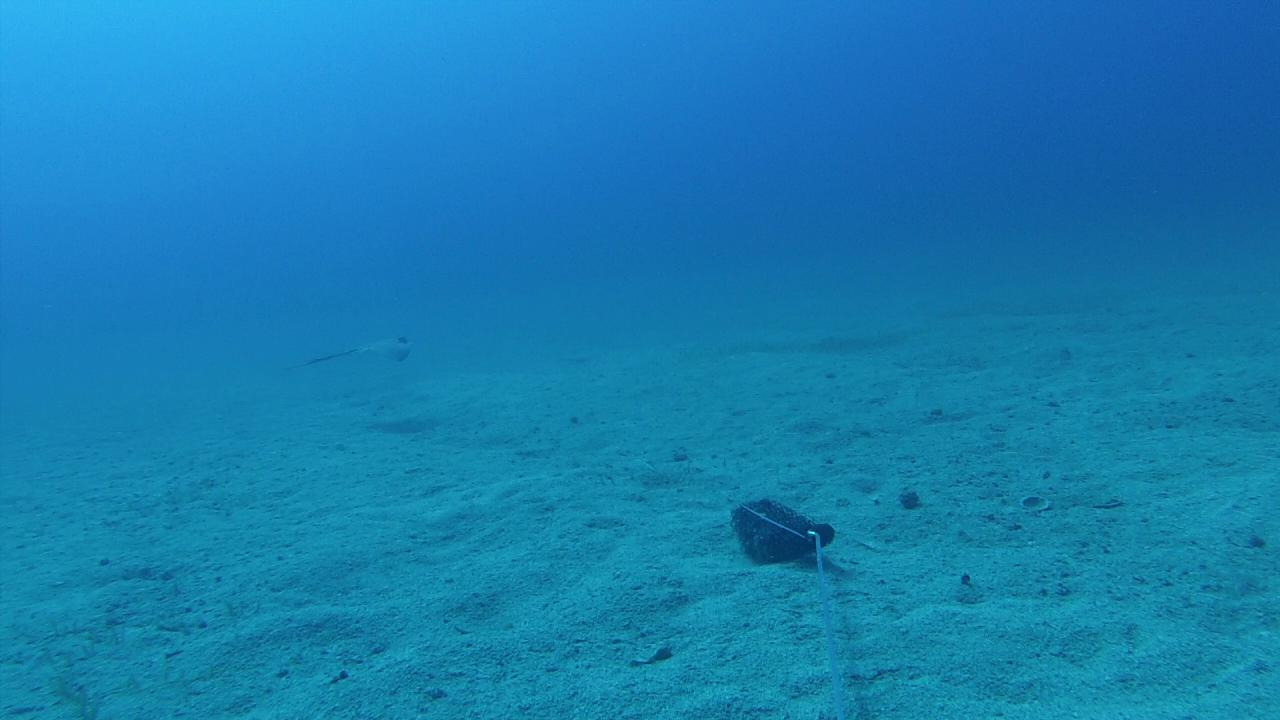dasyatis: (294, 329, 414, 367)
